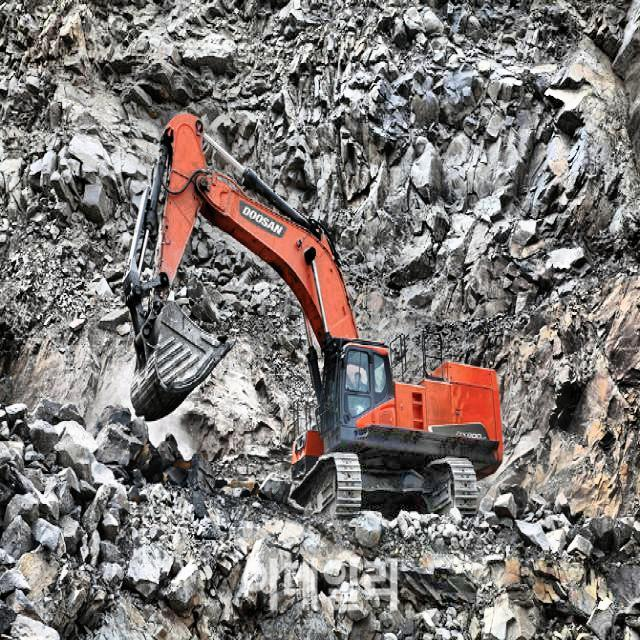bull_dozer/loader/grader: (122, 108, 506, 530)
person: (352, 370, 369, 393)
